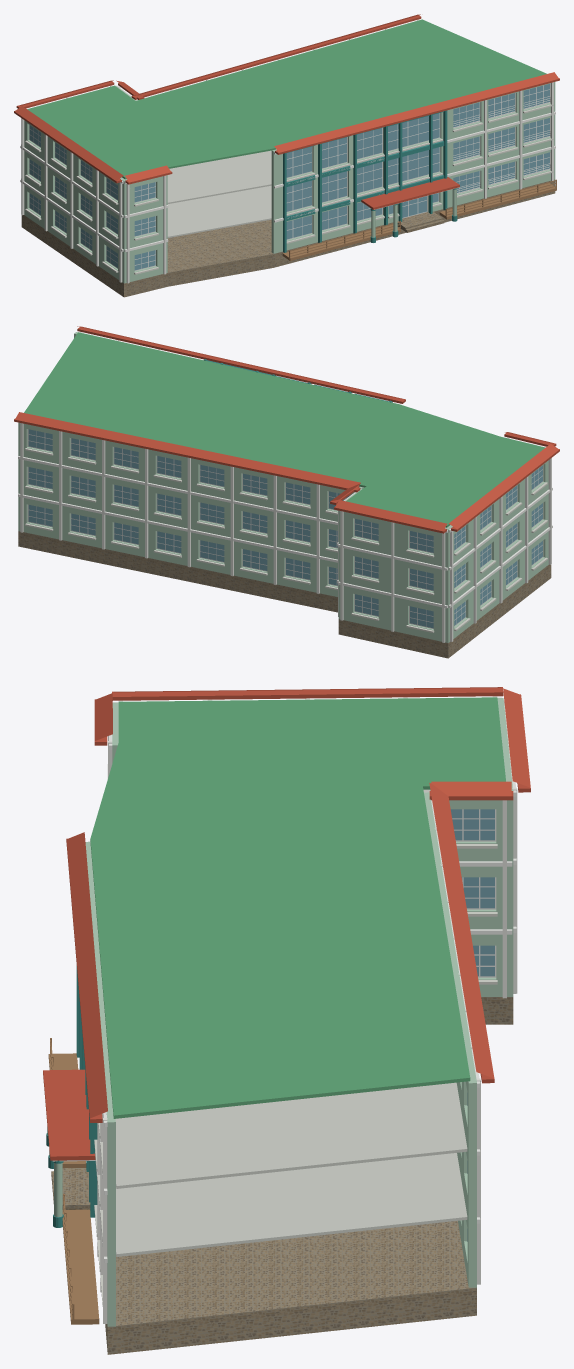
3 renders of one model, top to bottom at view 1: azimuth 30°, elevation 25°; view 2: azimuth 150°, elevation 25°; view 3: azimuth 270°, elevation 25°, orthographic. The views are drawn at different scales.
Parts seen in each view (by area): view 1: new-wing__green, new-wing__mint, new-wing__glass, new-wing__stone, new-wing__red, new-wing__slab, new-wing__frame, new-wing__teal, new-wing__panel, new-wing__sill, new-wing__cap, new-wing__wood; view 2: new-wing__green, new-wing__mint, new-wing__glass, new-wing__red, new-wing__stone, new-wing__panel, new-wing__frame, new-wing__cap, new-wing__sill; view 3: new-wing__green, new-wing__slab, new-wing__stone, new-wing__red, new-wing__mint, new-wing__panel, new-wing__wood, new-wing__glass, new-wing__cap, new-wing__teal, new-wing__sill, new-wing__frame (+1 smaller).
Part boxes in pixels (x1,y1,x2,y2): new-wing__green: (27, 19, 546, 179); new-wing__mint: (24, 82, 555, 283); new-wing__glass: (29, 84, 549, 270); new-wing__stone: (21, 179, 555, 297); new-wing__red: (14, 14, 559, 209); new-wing__slab: (167, 150, 271, 237); new-wing__frame: (29, 83, 550, 270); new-wing__teal: (283, 110, 457, 252); new-wing__panel: (21, 19, 553, 283); new-wing__sill: (25, 104, 553, 274); new-wing__cap: (20, 19, 555, 252); new-wing__wood: (282, 179, 556, 260); new-wing__green: (24, 332, 545, 527); new-wing__mint: (18, 332, 548, 642); new-wing__glass: (28, 429, 542, 628); new-wing__red: (14, 326, 559, 533); new-wing__stone: (18, 531, 551, 658); new-wing__panel: (20, 331, 551, 642); new-wing__frame: (27, 429, 543, 628); new-wing__cap: (18, 332, 552, 608); new-wing__sill: (25, 448, 547, 632); new-wing__green: (90, 697, 505, 1118); new-wing__slab: (115, 789, 467, 1256); new-wing__stone: (105, 997, 513, 1354); new-wing__red: (43, 687, 530, 1160); new-wing__mint: (47, 698, 513, 1326); new-wing__panel: (97, 696, 517, 1323); new-wing__wood: (48, 1038, 99, 1324); new-wing__glass: (450, 809, 494, 1241); new-wing__cap: (52, 697, 516, 1262); new-wing__teal: (46, 966, 97, 1227); new-wing__sill: (94, 764, 497, 1306); new-wing__frame: (452, 809, 496, 977).
Size of the model in its own units: 49.03 by 12.85 by 23.39.
14 materials, 1 textured.
